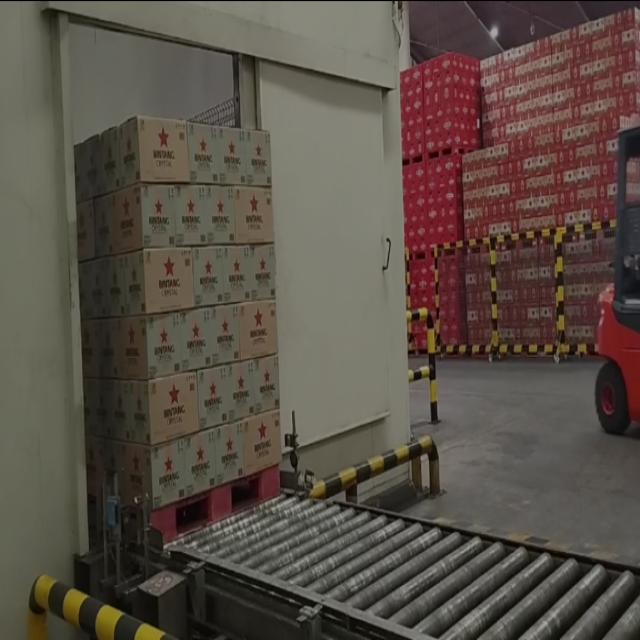pallet: (61, 100, 289, 553)
